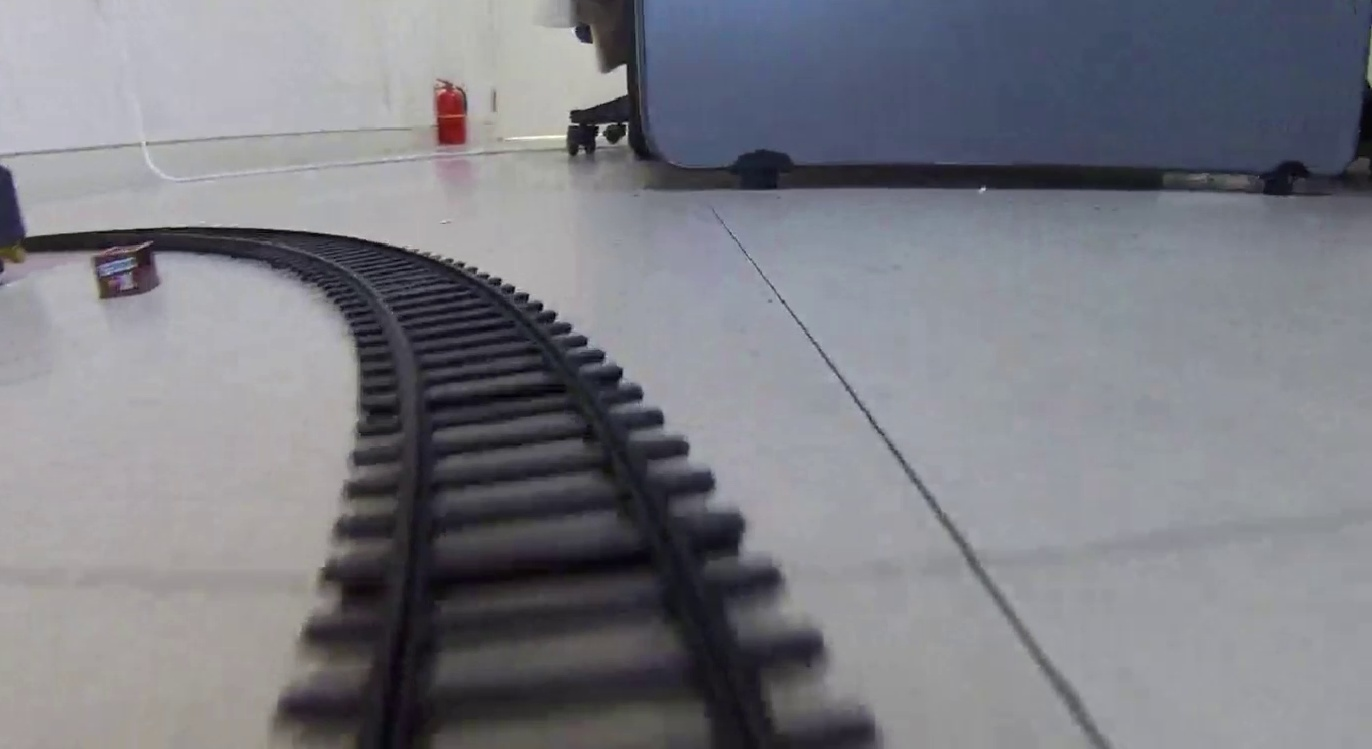box: (90, 240, 165, 300)
